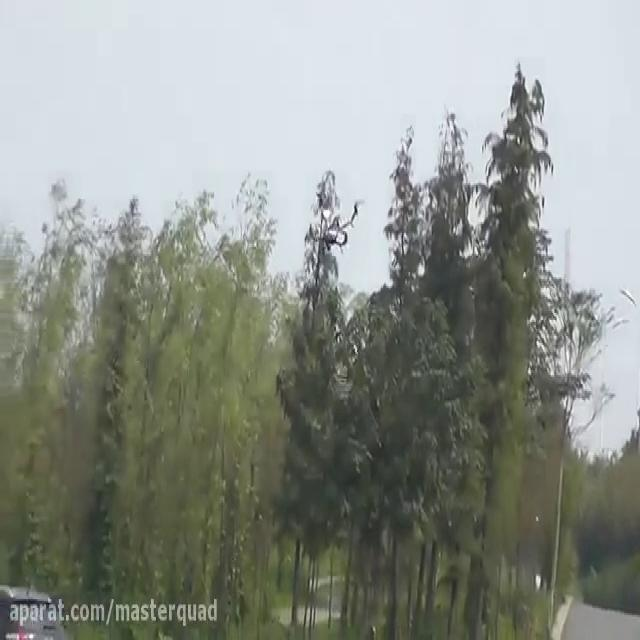drone: (304, 187, 365, 245)
